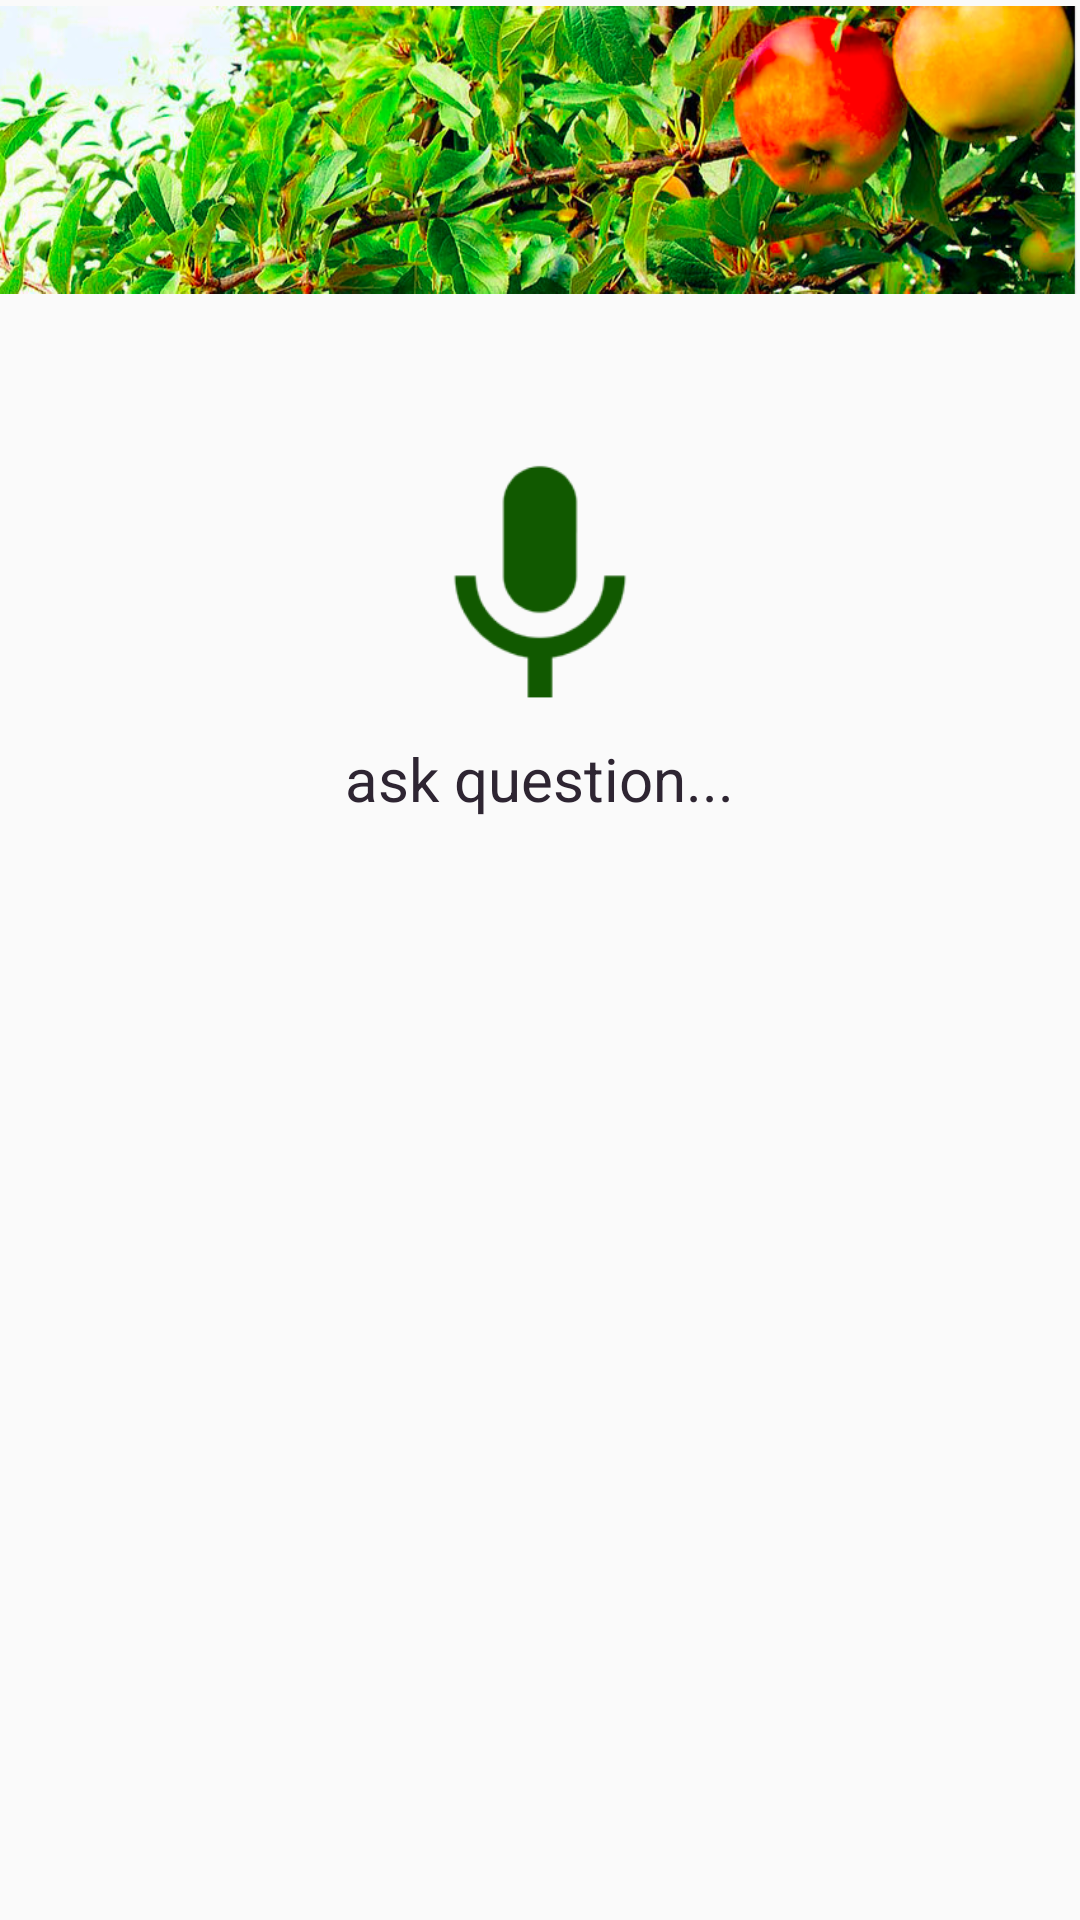

Point at icon controls on the screen. Image size 1080 x 1920, points as point (x, y).
mic: point (540, 582)
